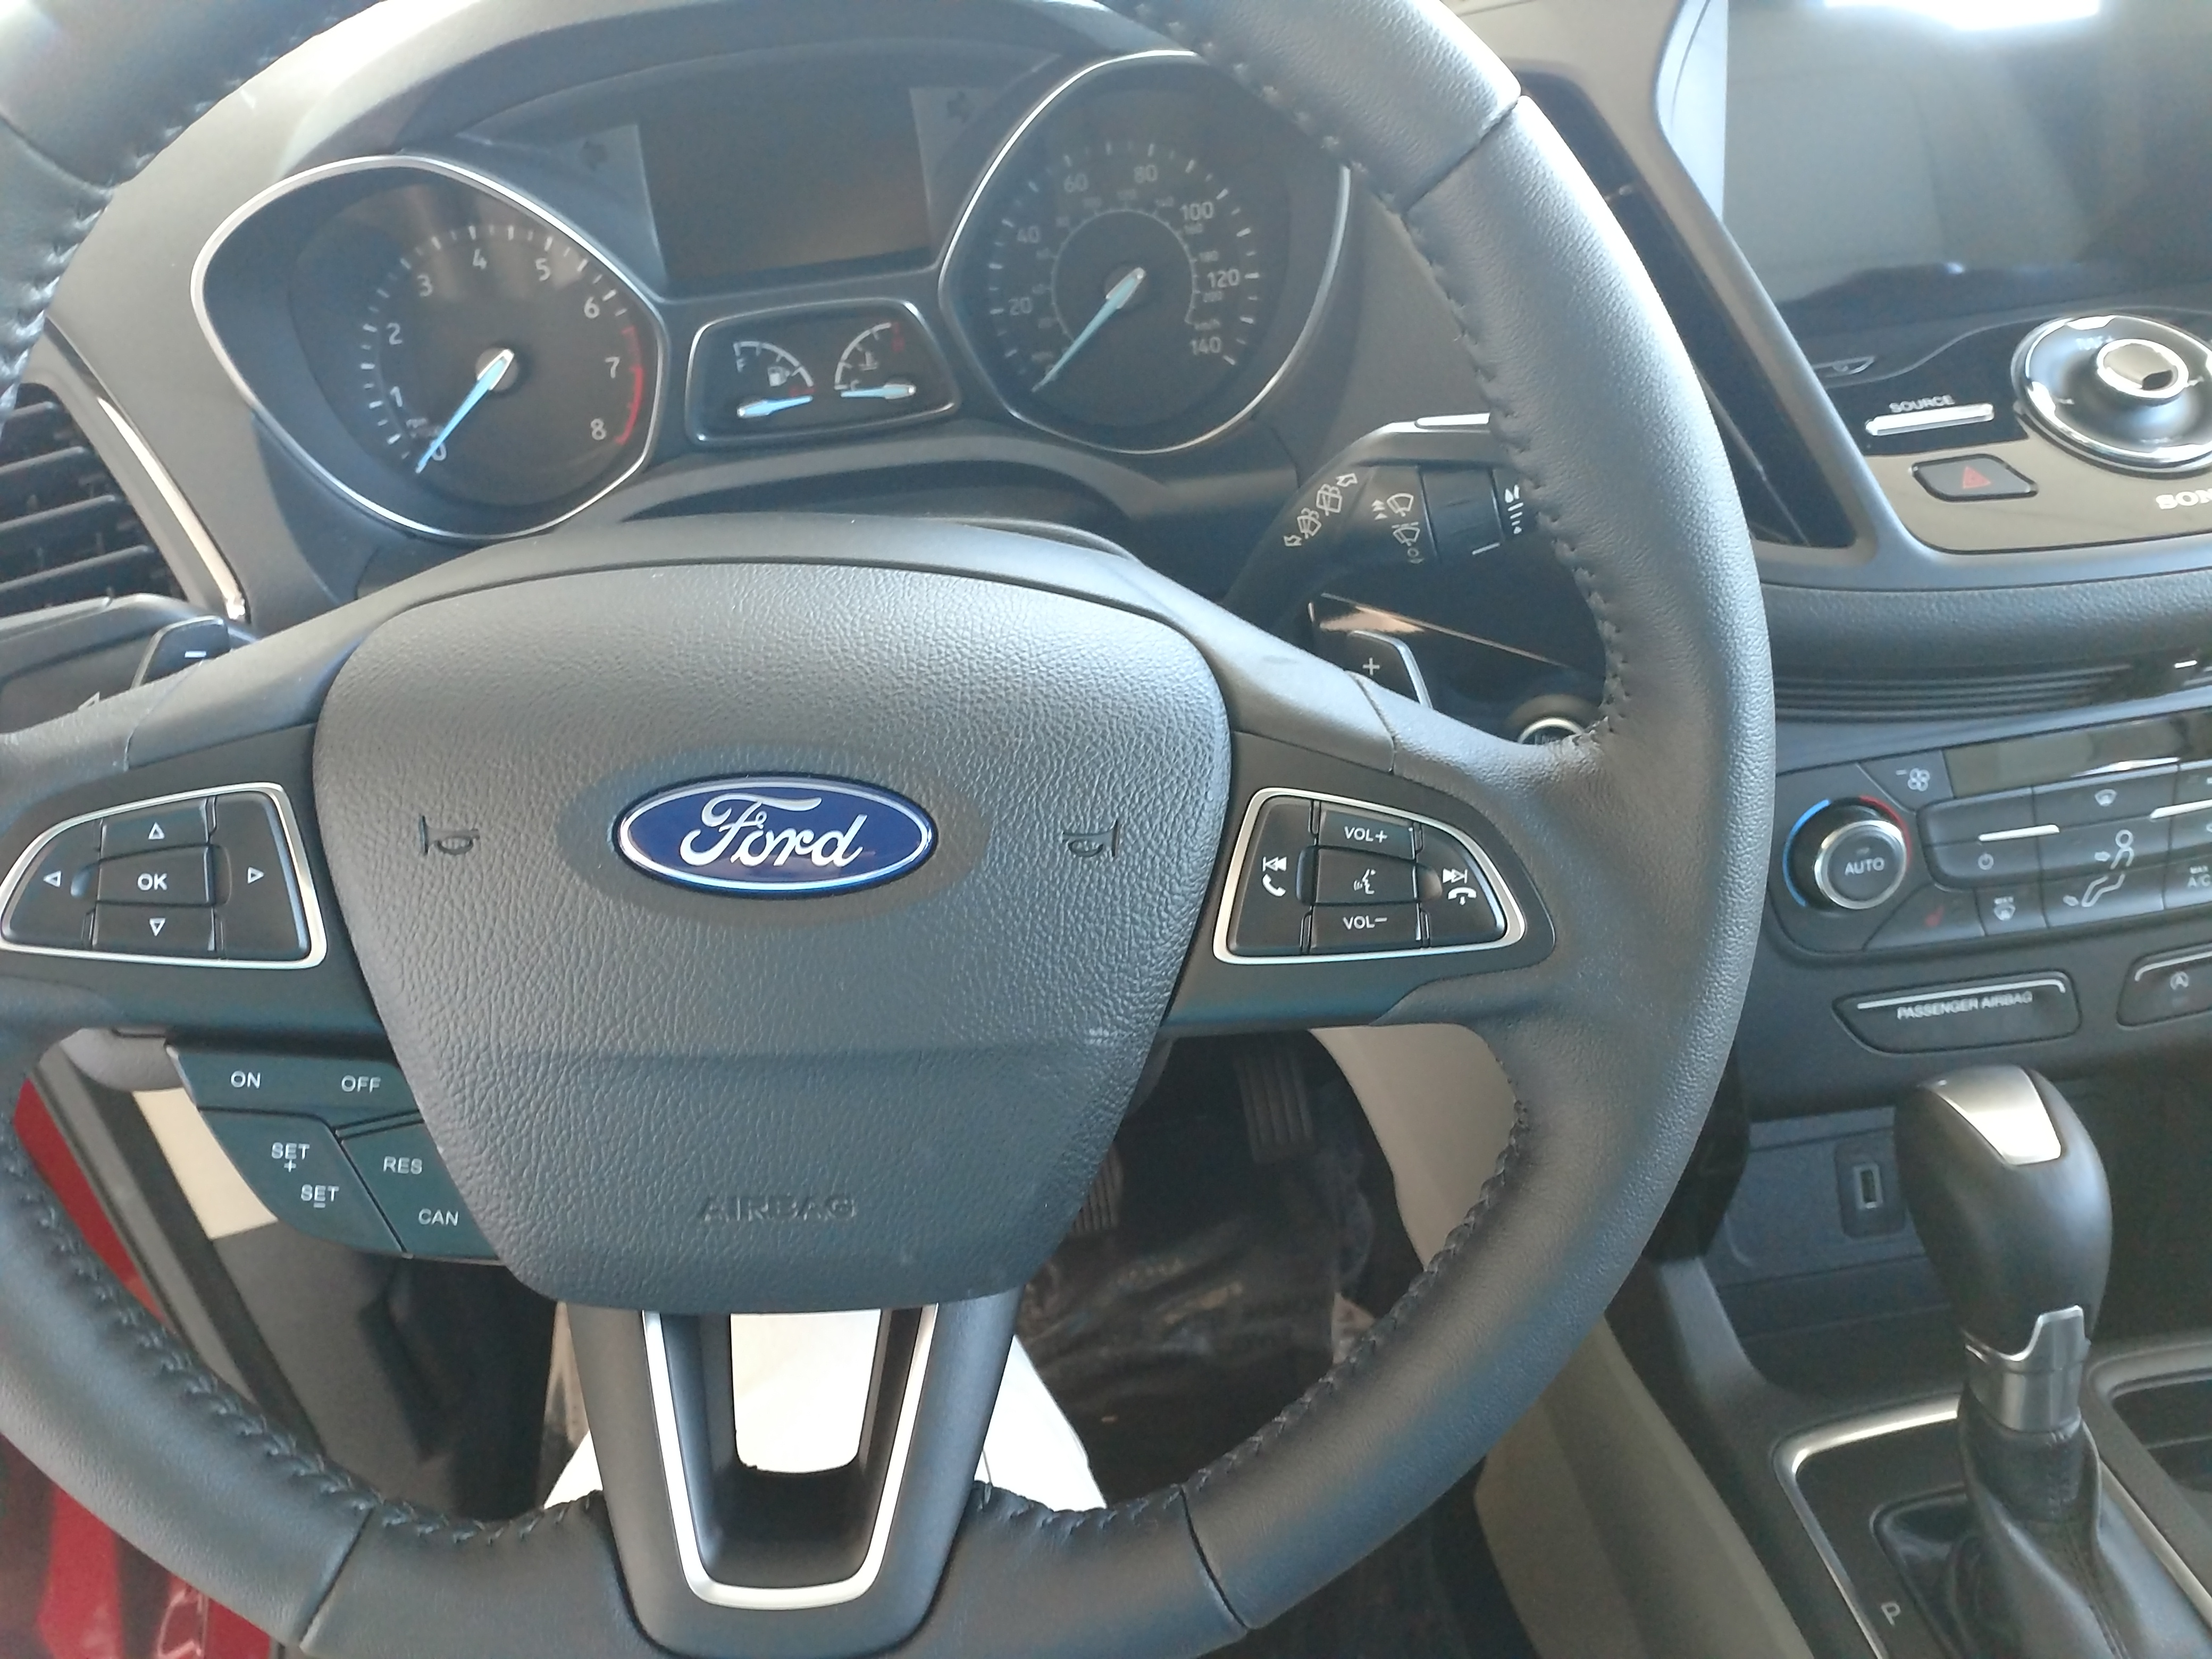Ford: (608, 751, 956, 911)
